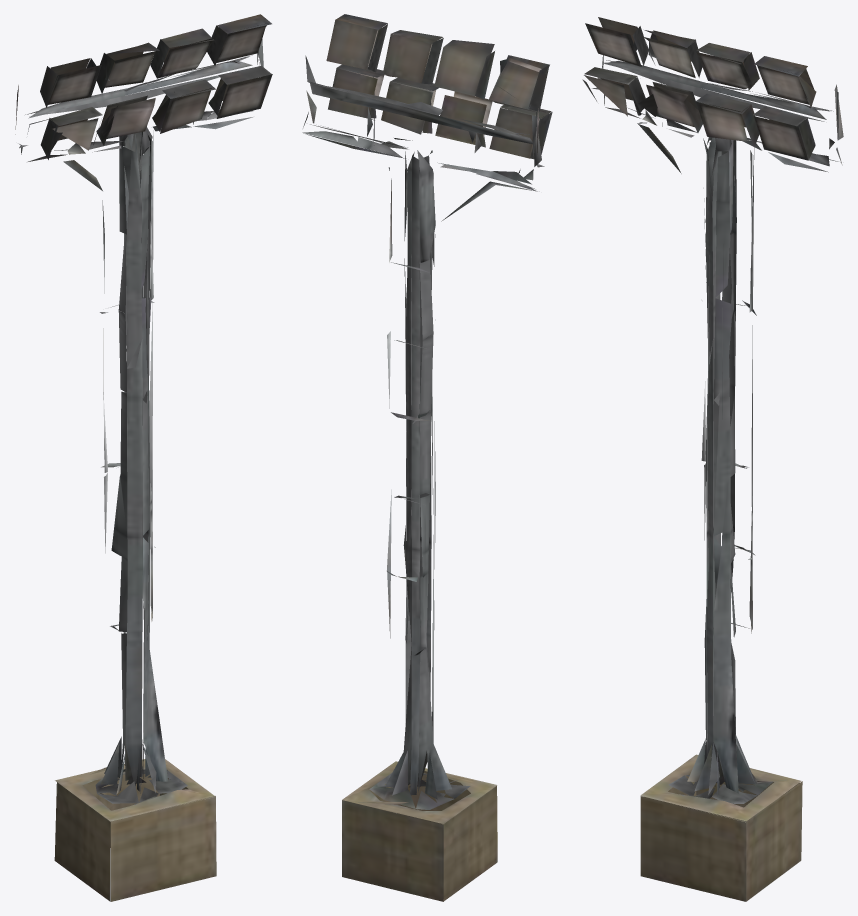
File: kueste_flutlicht_lo.glb
3 views of the same model, side by side, from view 1: azimuth 30°, elevation 25°; view 2: azimuth 150°, elevation 25°; view 3: azimuth 330°, elevation 25° (orthographic). The views are drawn at different scales.
Visible parts, largest first — view 1: Prop; view 2: Prop; view 3: Prop.
Part boxes in pixels (<box>): Prop: <box>15,14,272,901</box>; Prop: <box>302,14,552,901</box>; Prop: <box>582,17,843,901</box>.
Size of the model in its own units: 0.3095 by 1.01 by 0.1272.
Materials: 1 (1 with a texture image).
